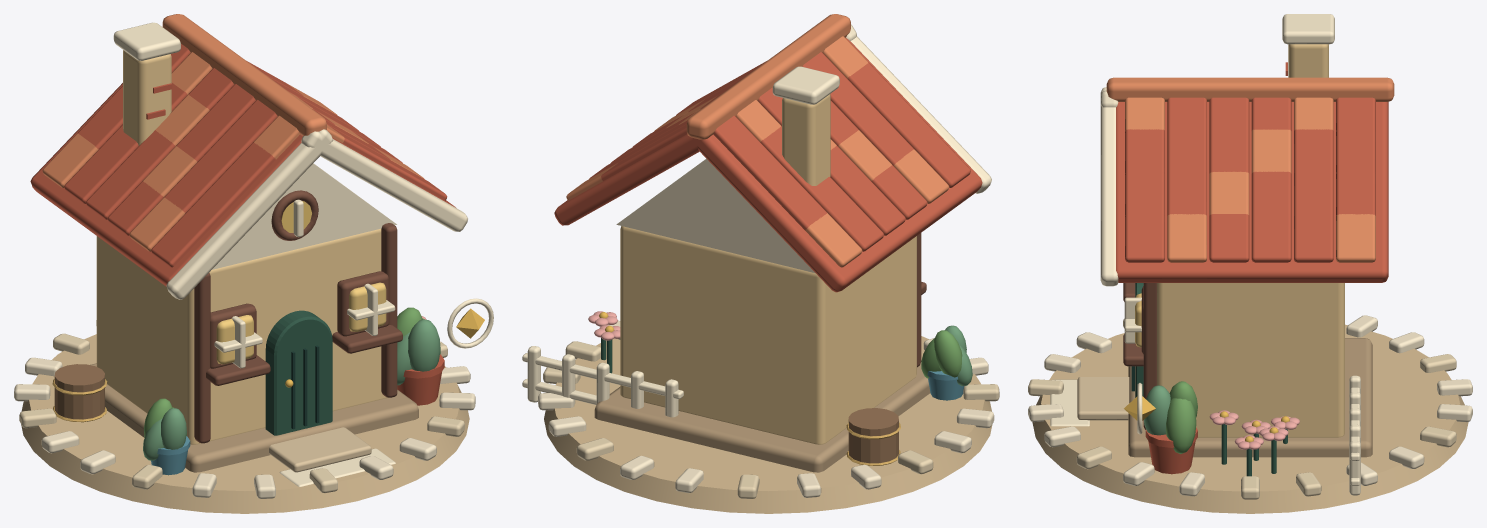
File: home.glb
The picture shows the model from 3 angles, left to right: view 1: azimuth 30°, elevation 25°; view 2: azimuth 150°, elevation 25°; view 3: azimuth 270°, elevation 25°; orthographic projection. The views are drawn at different scales.
Visible parts, largest first — view 1: building-home, landmark-home, Blender_detail_RainBarrel, treasure-home; view 2: building-home, landmark-home, Blender_detail_RainBarrel; view 3: building-home, landmark-home, treasure-home.
Boxes of the visible parts, x1,y1,x2,y2 form: building-home: (30,14,467,486); landmark-home: (14,320,475,513); Blender_detail_RainBarrel: (54,364,104,419); treasure-home: (447,298,493,348); building-home: (522,14,991,472); landmark-home: (538,320,999,513); Blender_detail_RainBarrel: (848,408,898,463); building-home: (1050,14,1394,495); landmark-home: (1028,315,1472,513); treasure-home: (1124,383,1155,434).
Bounding box in the file's own units: 1.54 × 1.39 × 1.53.
